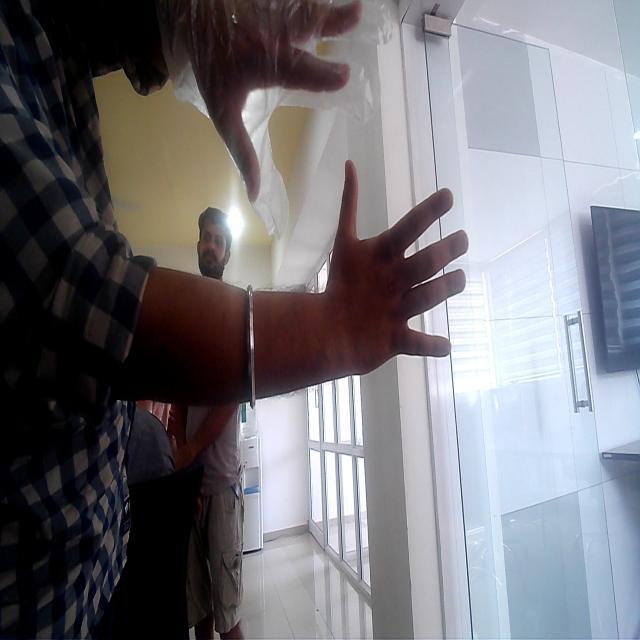with_gloves: (175, 0, 380, 172)
without_gloves: (312, 164, 488, 360)
